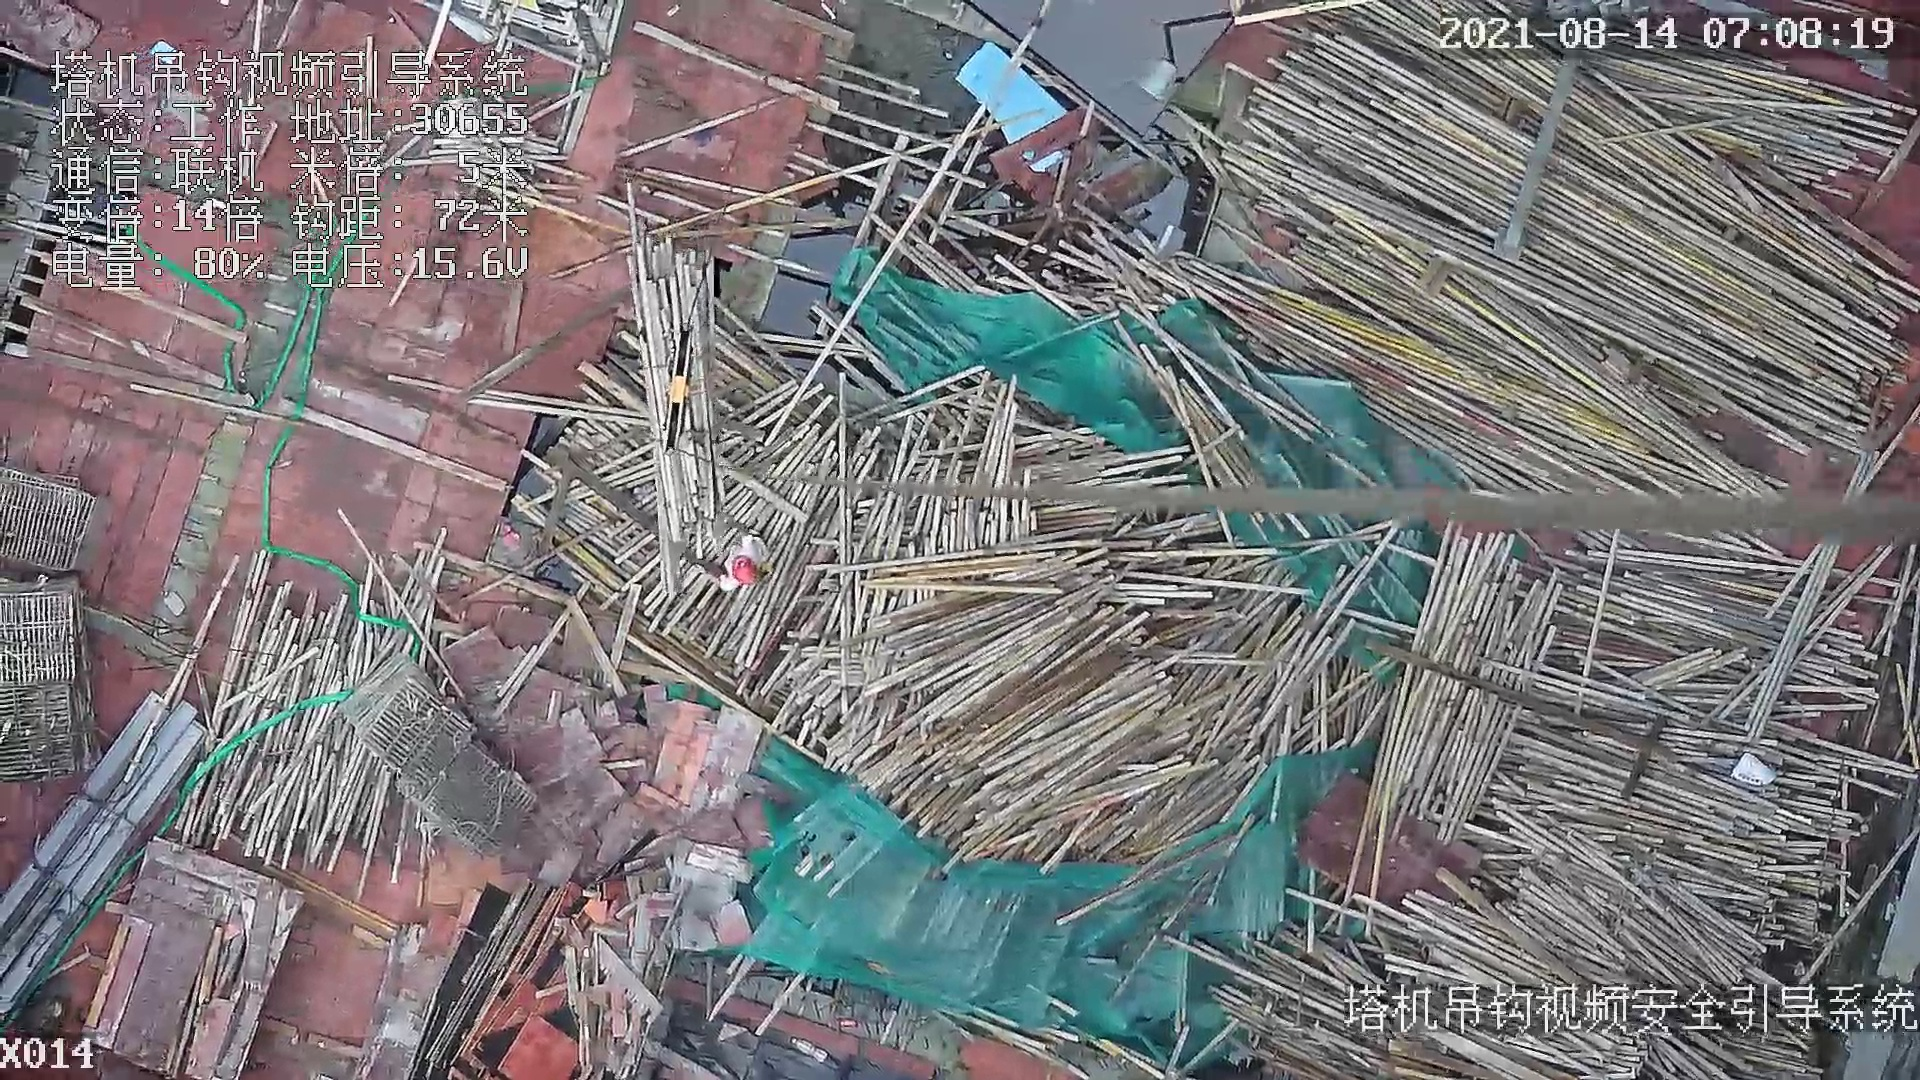helmet: (730, 554, 758, 586)
hook: (658, 319, 695, 463)
person: (722, 535, 765, 595)
